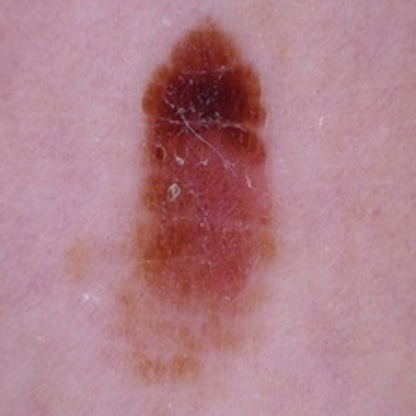malignant: (151, 39, 272, 304)
